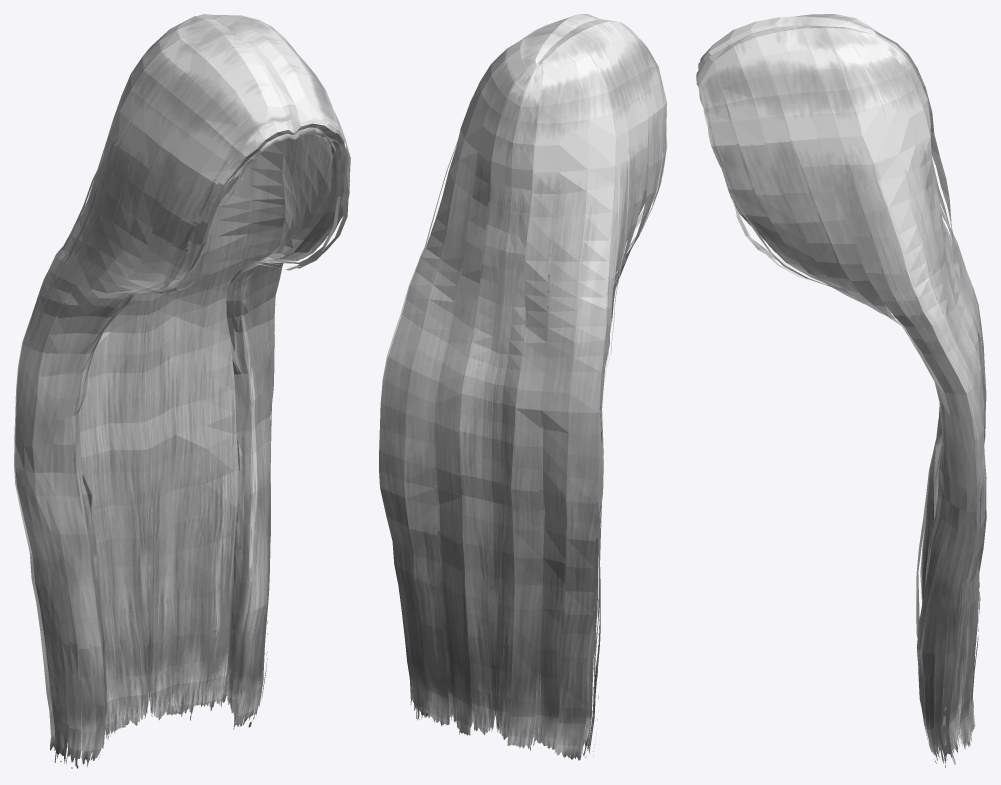
File: hair.glb
The picture shows the model from 3 angles, left to right: view 1: azimuth 30°, elevation 25°; view 2: azimuth 150°, elevation 25°; view 3: azimuth 270°, elevation 25°; orthographic projection. The views are drawn at different scales.
Parts seen in each view (by area): view 1: Hair cards; view 2: Hair cards; view 3: Hair cards.
Part boxes in pixels (bbox=[...]): Hair cards: bbox=[14, 14, 350, 768]; Hair cards: bbox=[379, 14, 667, 760]; Hair cards: bbox=[696, 14, 986, 767].
Size of the model in its own units: 0.2116 by 0.612 by 0.2269.
Materials: 1 (1 with a texture image).
